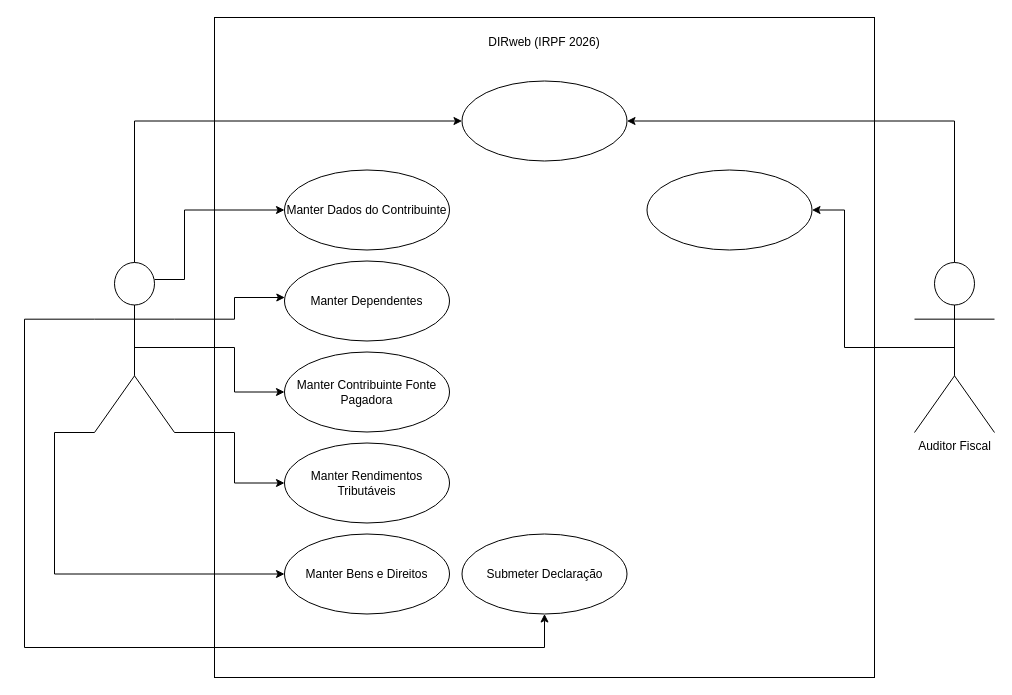
This 1012x695 diagram has some shape labels left out. Here are the shapes that lost their labels. From the top down, the centre of each, then its label:
At (x=544, y=120): "Realizar Autenticação".
At (x=729, y=209): "Analisar Declaração".
At (x=134, y=347): "Contribuinte".
